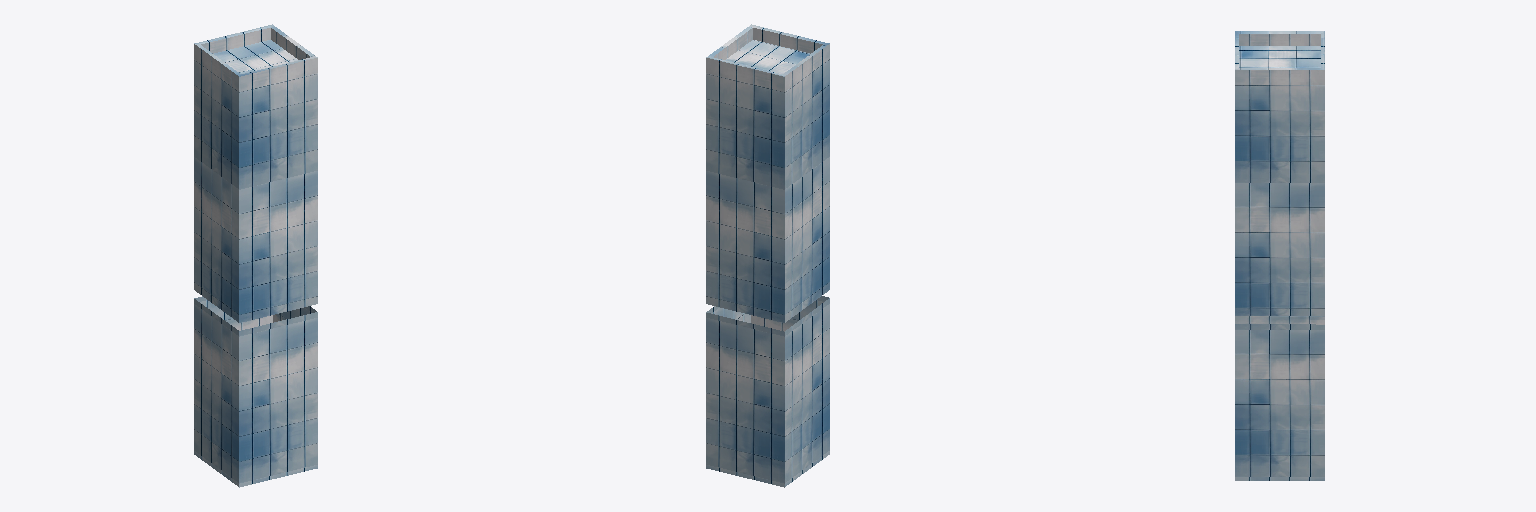
The picture shows the model from 3 angles: view 1: azimuth 30°, elevation 25°; view 2: azimuth 150°, elevation 25°; view 3: azimuth 270°, elevation 25°; orthographic projection.
Parts seen in each view (by area): view 1: block6; view 2: block6; view 3: block6.
Boxes of the visible parts, box(x1,y1,x2,y2) form: block6: box(194, 24, 317, 487); block6: box(706, 24, 829, 487); block6: box(1235, 31, 1324, 480).
Bounding box in the file's own units: 8.11 × 40.53 × 8.11.
Materials: 1 (1 with a texture image).